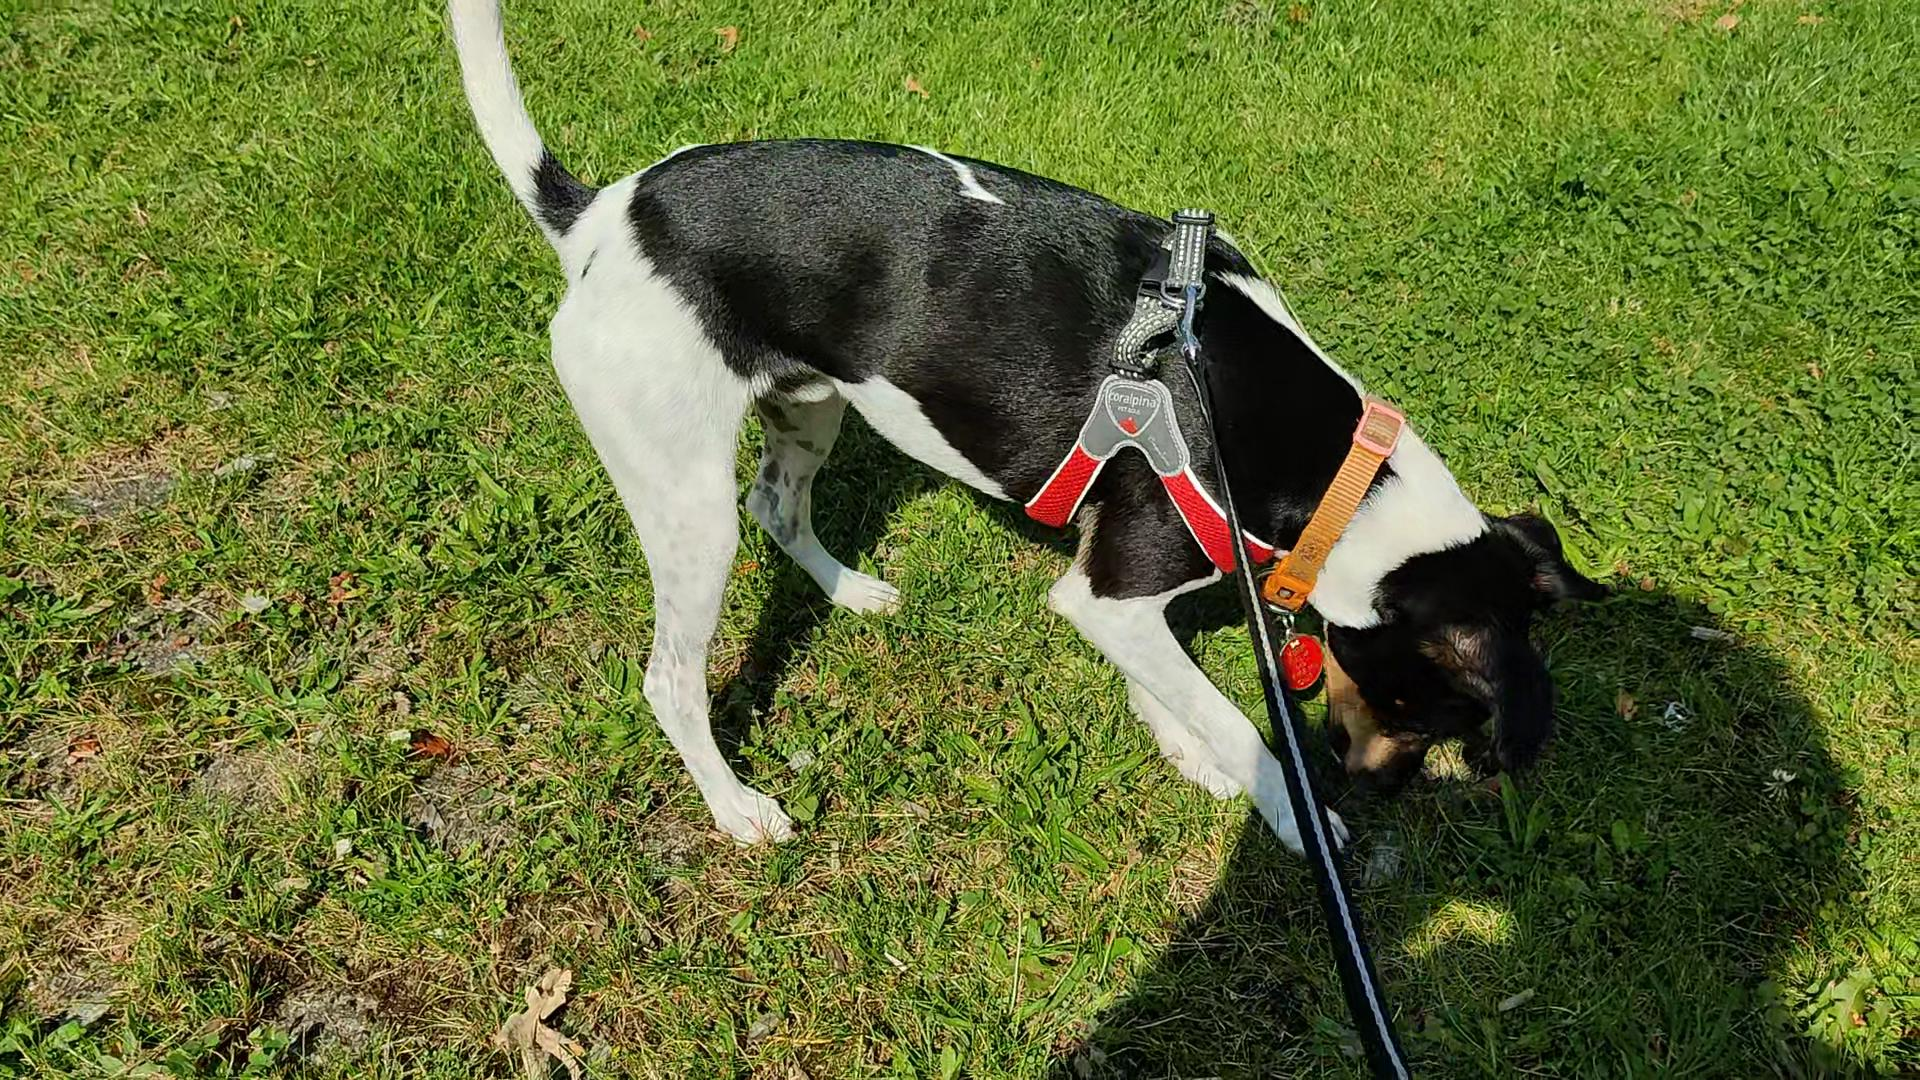Dog: (429, 0, 1627, 877)
